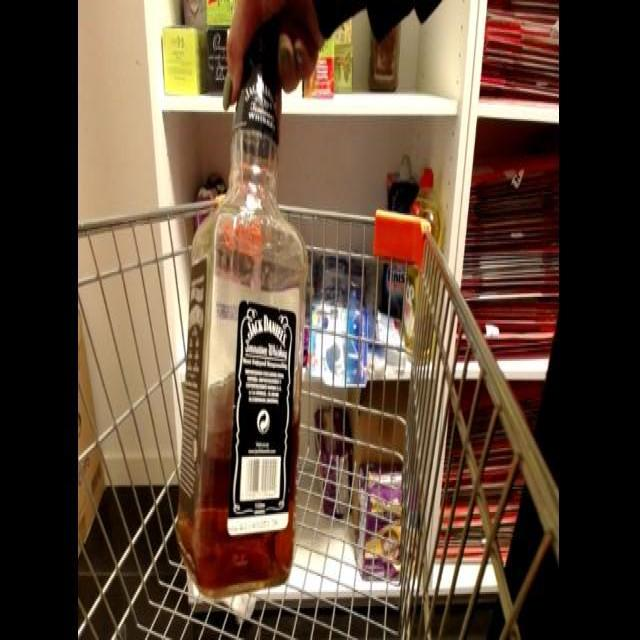Jack Daniels: (152, 28, 337, 633)
